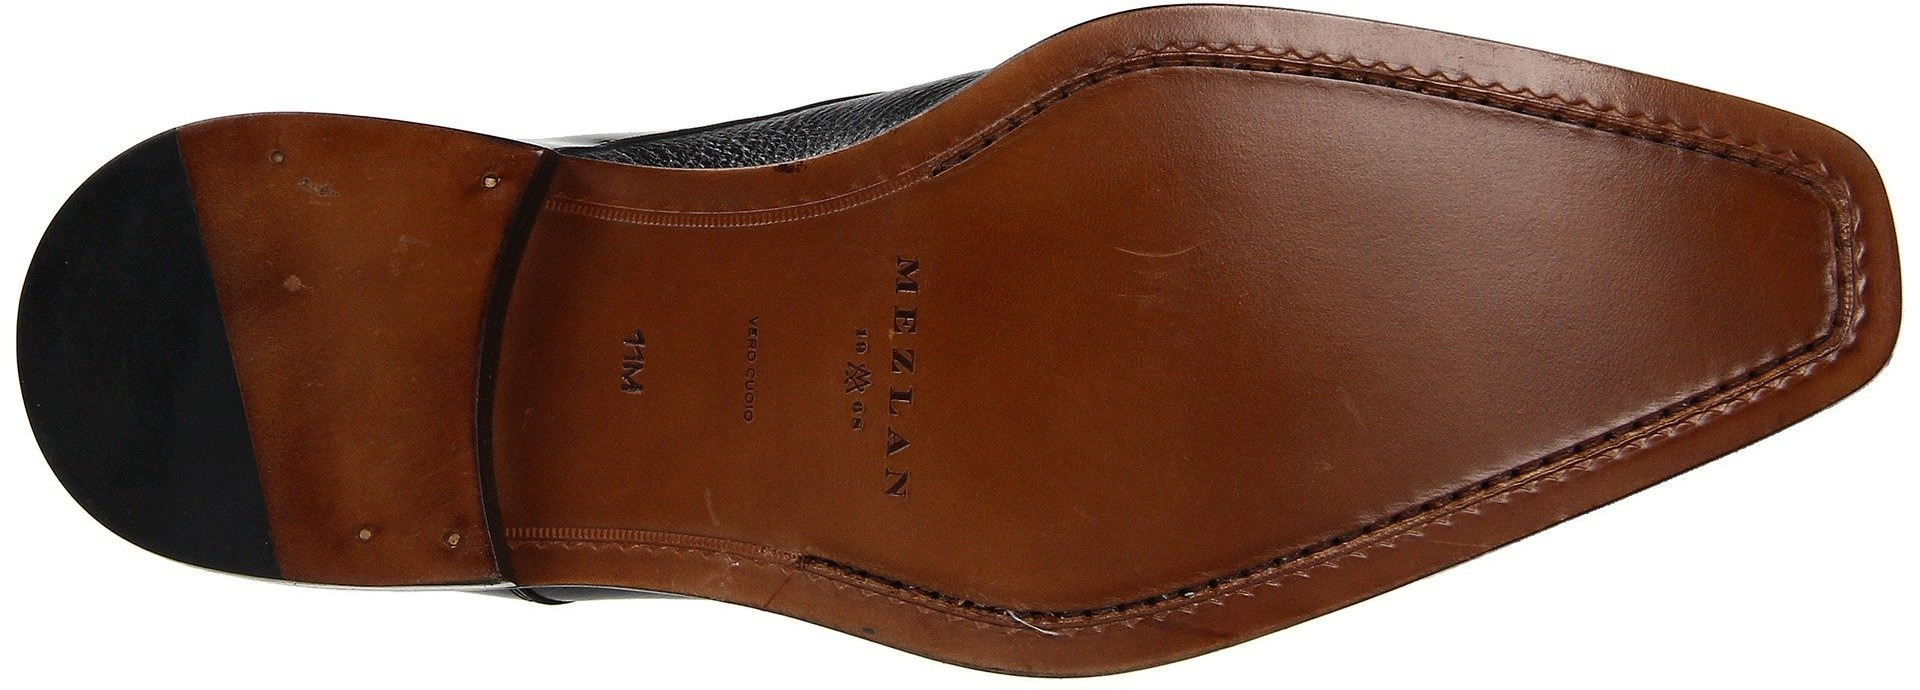other: (1234, 138, 1504, 427), (233, 207, 469, 436), (1018, 147, 1224, 367), (1520, 170, 1716, 384), (997, 384, 1204, 582), (47, 269, 213, 444)
ribbon: (1229, 436, 1390, 588), (1100, 23, 1224, 137)
text: (890, 237, 1000, 325), (879, 347, 981, 443), (879, 454, 938, 509)
